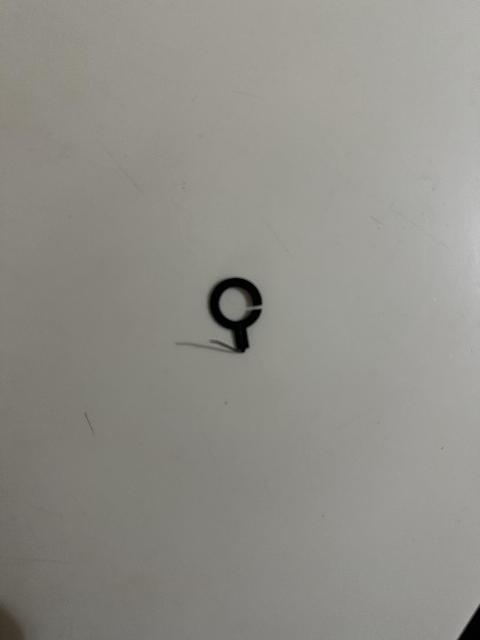Plastik: (176, 273, 263, 354)
